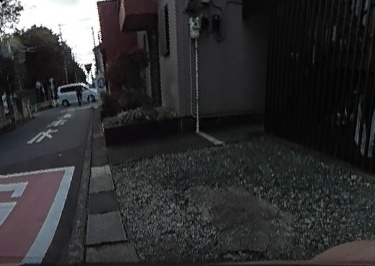person: (75, 80, 84, 105)
